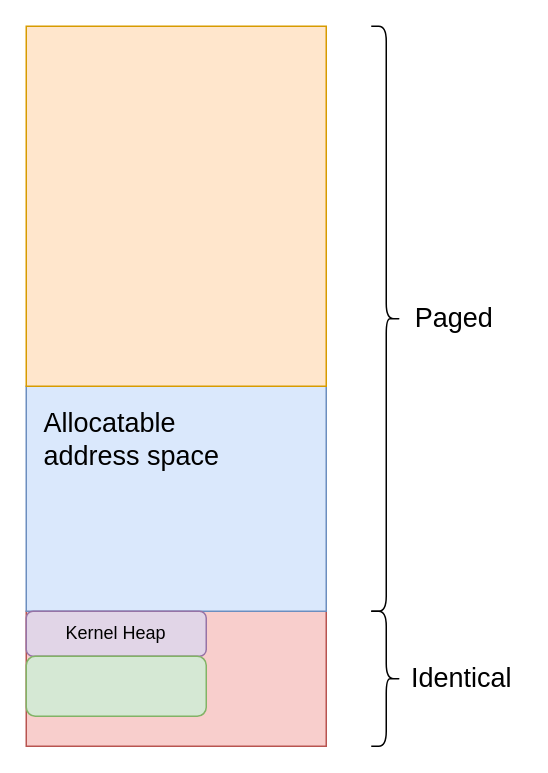
Image size: 548x773. Some labels were removed from this diagram. The centre of each missing label's shape, as x and y in pixels:
"Kernel Image" belongs at point (115, 685).
"Persistent Memory" belongs at point (175, 205).
